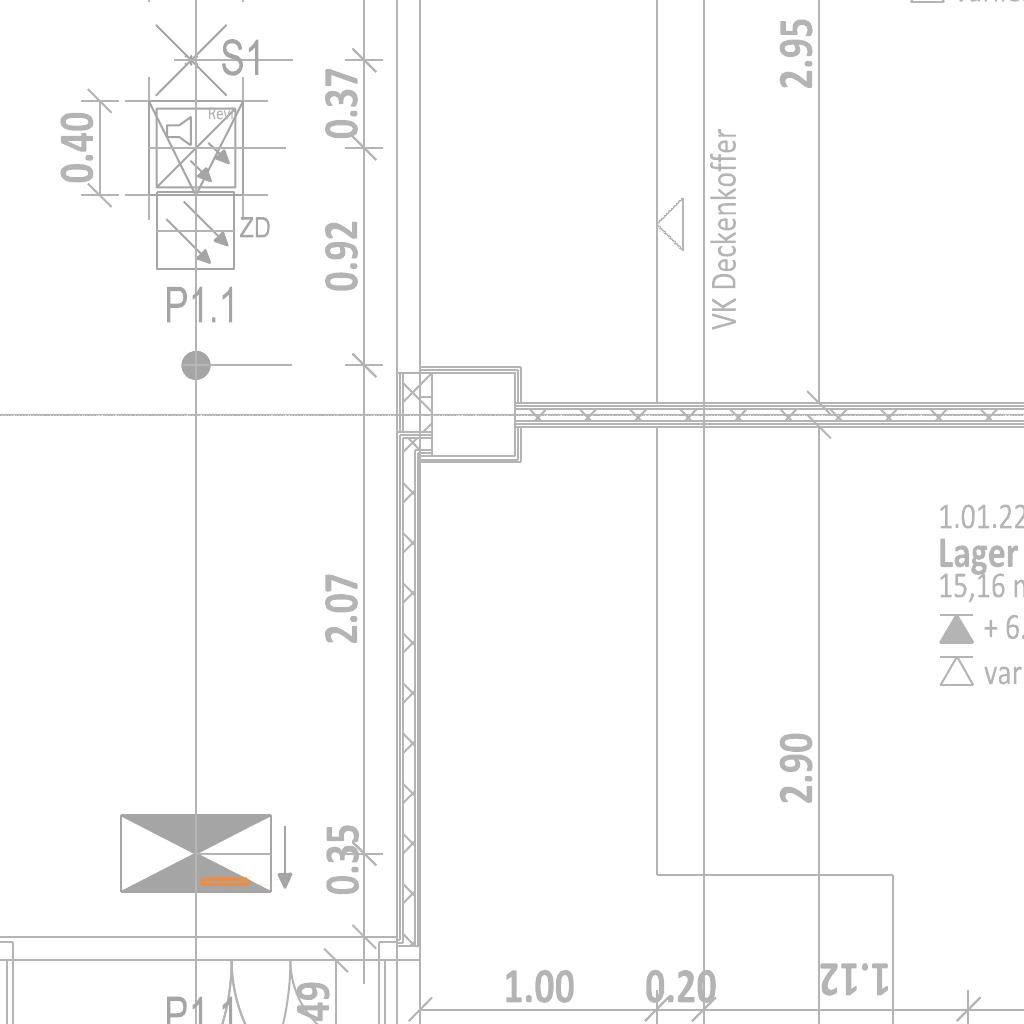Sicherheitsleuchte_Wandeinbau: (198, 875, 277, 887)
